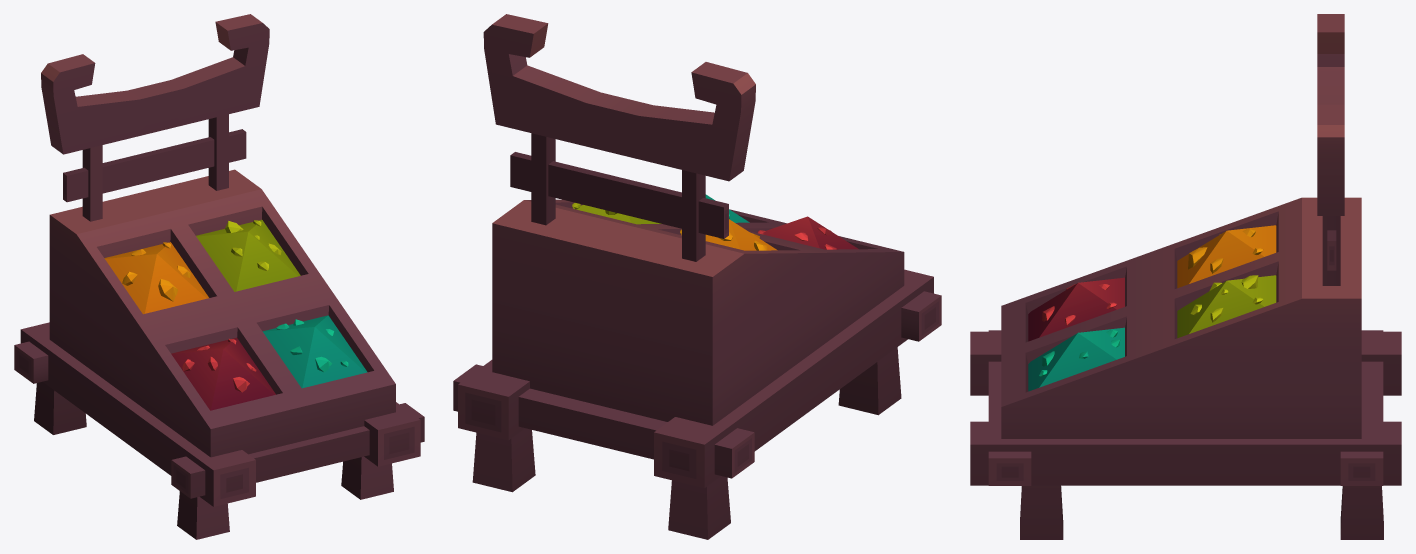
File: stand.glb
3 views of the same model, side by side, from view 1: azimuth 30°, elevation 25°; view 2: azimuth 150°, elevation 25°; view 3: azimuth 270°, elevation 25° (orthographic). The views are drawn at different scales.
Visible parts, largest first — view 1: stand; view 2: stand; view 3: stand.
Boxes of the visible parts, x1=… form: stand: x1=14, y1=14, x2=424, y2=539; stand: x1=453, y1=14, x2=941, y2=539; stand: x1=970, y1=14, x2=1401, y2=539.
Size of the model in its own units: 1.29 by 1.97 by 1.85.
1 material, 1 textured.
